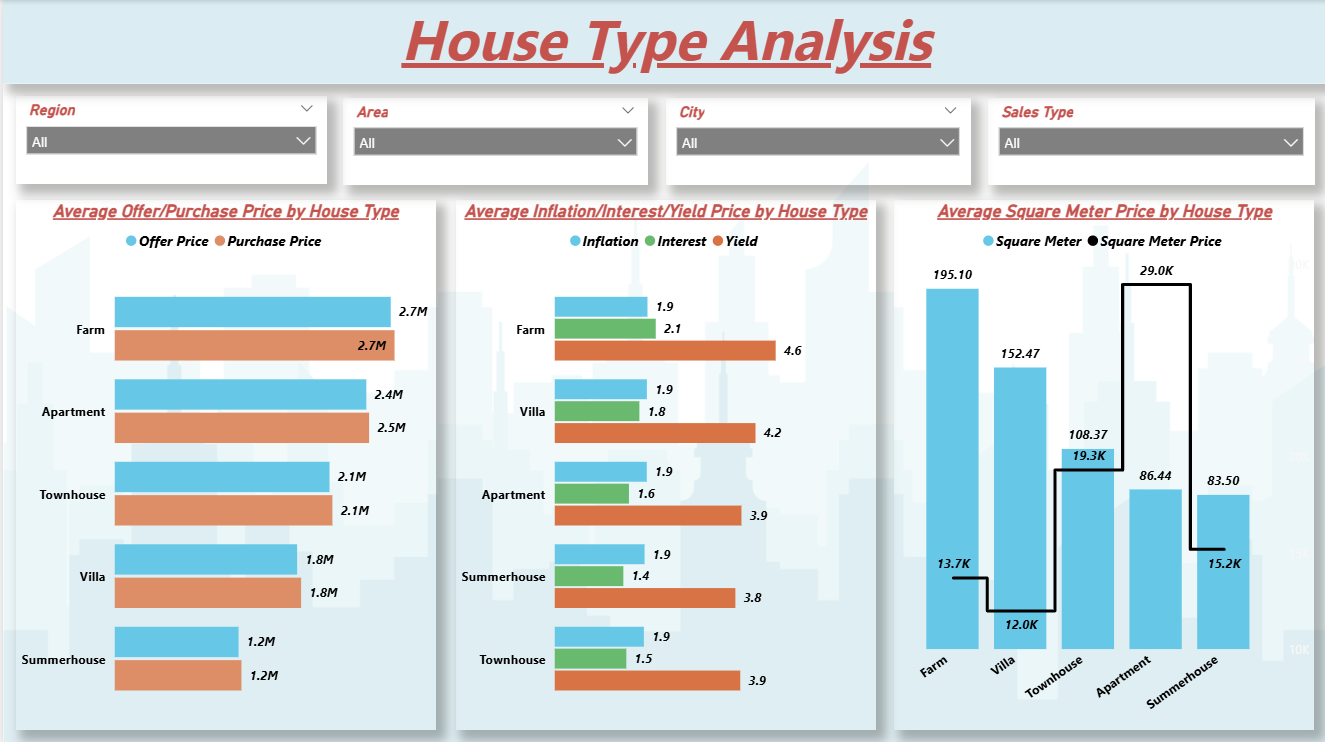

Layout of this report page (visuals, bound fields, positions):
{"tool":"powerbi","page":{"name":"House Type Analysis","canvas":[1280,720],"ordinal":2},"visuals":[{"type":"textbox","title":"House Type Analysis","box":[0,0,1280.3,80.7],"z":0},{"type":"clusteredBarChart","title":"Average Offer/Purchase Price by House Type","fields":{"Category":["Housing Data.house_type"],"Y":["Avg(Housing Data.offer price)","Avg(Housing Data.purchase_price)"]},"box":[12.2,193.2,406,512.4],"z":1000},{"type":"clusteredBarChart","title":"Average Inflation/Interest/Yield Price by House Type","fields":{"Category":["Housing Data.house_type"],"Y":["Avg(Housing Data.dk_ann_infl_rate%)","Avg(Housing Data.nom_interest_rate%)","Avg(Housing Data.yield_on_mortgage_credit_bonds%)"]},"box":[436.6,193.2,406,512.4],"z":2000},{"type":"lineStackedColumnComboChart","title":"Average Square Meter Price by House Type","fields":{"Category":["Housing Data.house_type"],"Y":["Avg(Housing Data.sqm)"],"Y2":["Avg(Housing Data.sqm_price)"]},"box":[859.7,193.2,406,512.4],"z":3000},{"type":"slicer","fields":{"Values":["Housing Data.area"]},"box":[328.2,94.1,294.4,84.5],"z":4000},{"type":"slicer","fields":{"Values":["Housing Data.city"]},"box":[639.4,94.1,294.4,84.5],"z":5000},{"type":"slicer","fields":{"Values":["Housing Data.region"]},"box":[12.1,92.9,300.4,84.5],"z":6000},{"type":"slicer","fields":{"Values":["Housing Data.sales_type"]},"box":[950.7,94.1,314.9,84.5],"z":7000}]}

Visuals, with their boxes in screenshot pixels (x1, y1, x2, y2), scaled from the page's 1280x720 canvas onto the 1325x742 screenshot:
"House Type Analysis" textbox: (x1=0, y1=0, x2=1324, y2=83)
"Average Offer/Purchase Price by House Type" clusteredBarChart: (x1=13, y1=199, x2=433, y2=727)
"Average Inflation/Interest/Yield Price by House Type" clusteredBarChart: (x1=452, y1=199, x2=872, y2=727)
"Average Square Meter Price by House Type" lineStackedColumnComboChart: (x1=890, y1=199, x2=1310, y2=727)
slicer - Housing Data.area: (x1=340, y1=97, x2=644, y2=184)
slicer - Housing Data.city: (x1=662, y1=97, x2=967, y2=184)
slicer - Housing Data.region: (x1=13, y1=96, x2=323, y2=183)
slicer - Housing Data.sales_type: (x1=984, y1=97, x2=1310, y2=184)
